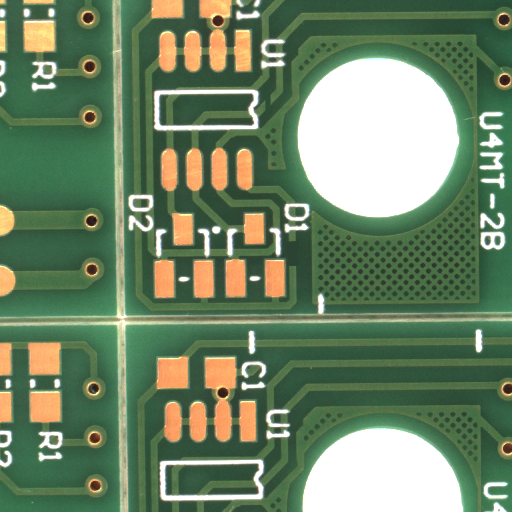Open_circuit: (291, 253, 301, 280), (267, 104, 276, 125)
